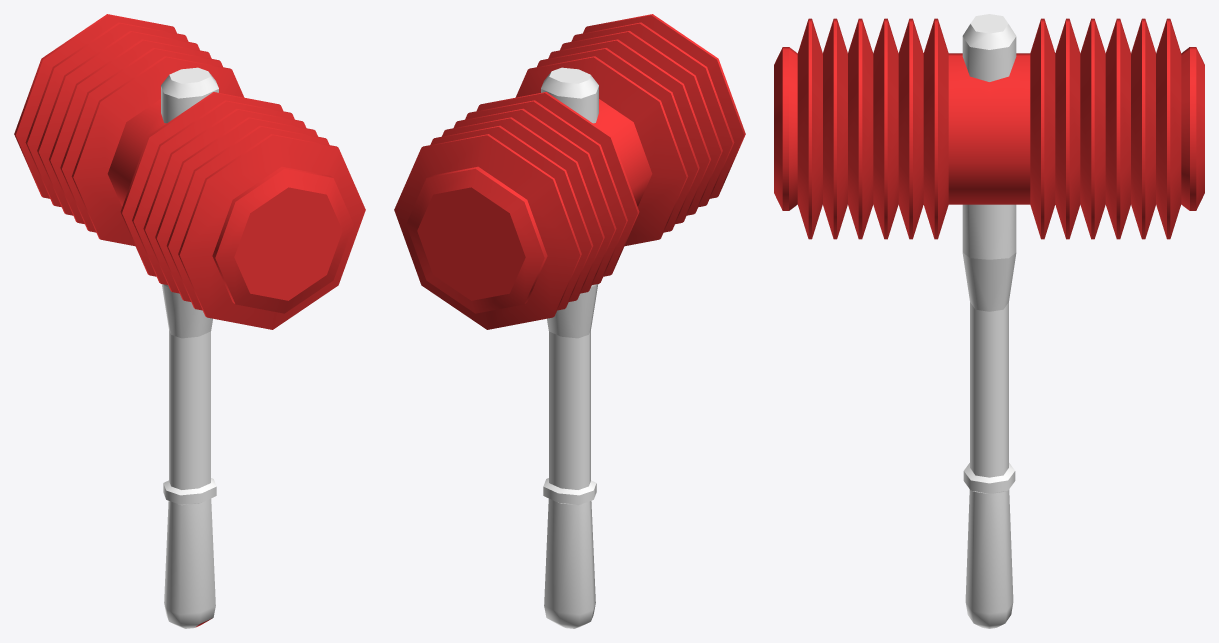
The model's file is zzzzzz.FBX.
3 renders of one model, left to right at view 1: azimuth 30°, elevation 25°; view 2: azimuth 150°, elevation 25°; view 3: azimuth 270°, elevation 25°, orthographic. The views are drawn at different scales.
Visible parts, largest first — view 1: Cylinder001; view 2: Cylinder001; view 3: Cylinder001.
Boxes of the visible parts, left/top/right/bottom form: Cylinder001: left=14, top=14, right=365, bottom=628; Cylinder001: left=394, top=14, right=745, bottom=628; Cylinder001: left=774, top=14, right=1204, bottom=628.
Bounding box in the file's own units: 38.65 × 109 × 70.84.
1 material, 1 textured.
